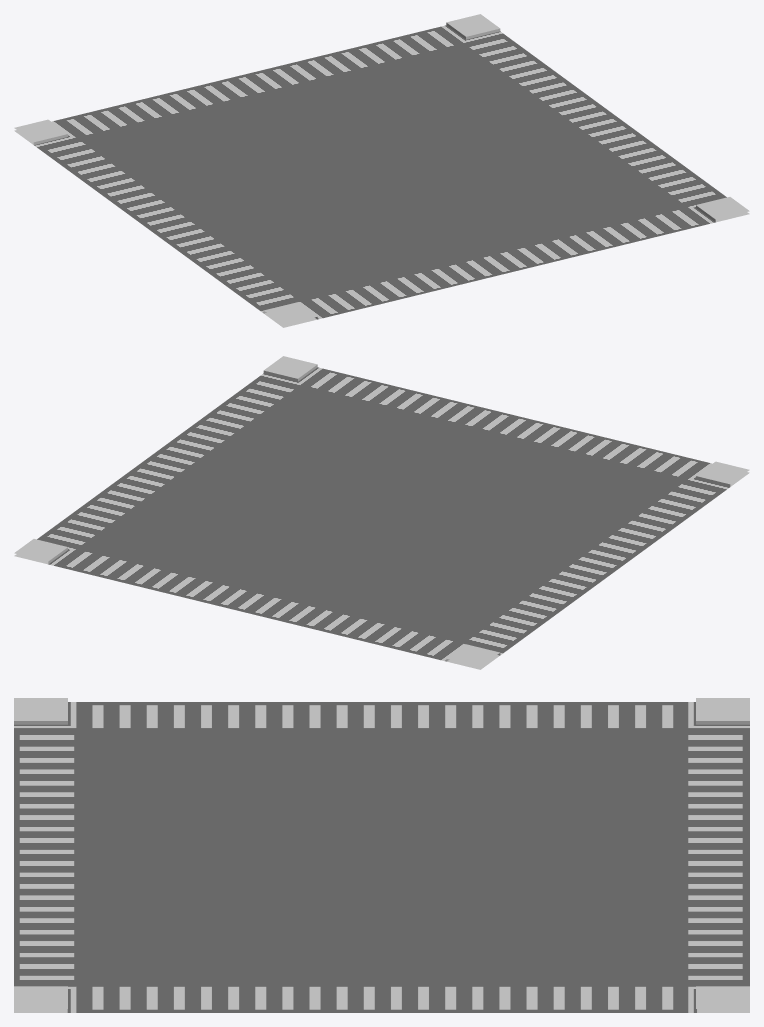
Rendered from Large Intersection.fbx.
The picture shows the model from 3 angles, top to bottom: view 1: azimuth 30°, elevation 25°; view 2: azimuth 150°, elevation 25°; view 3: azimuth 270°, elevation 25°; orthographic projection. The views are drawn at different scales.
Visible parts, largest first — view 1: Large Intersection; view 2: Large Intersection; view 3: Large Intersection.
Boxes of the visible parts, x1,y1,x2,y2 form: Large Intersection: (14, 14, 749, 327); Large Intersection: (14, 356, 749, 669); Large Intersection: (14, 698, 749, 1012).
Bounding box in the file's own units: 3400 × 20 × 3400.
